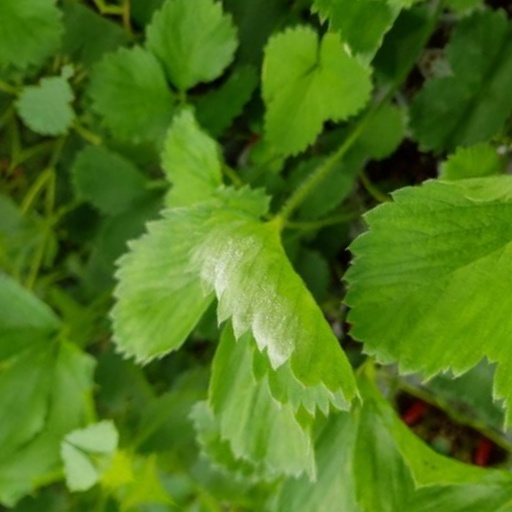Powdery Mildew Leaf: (189, 210, 423, 375)
